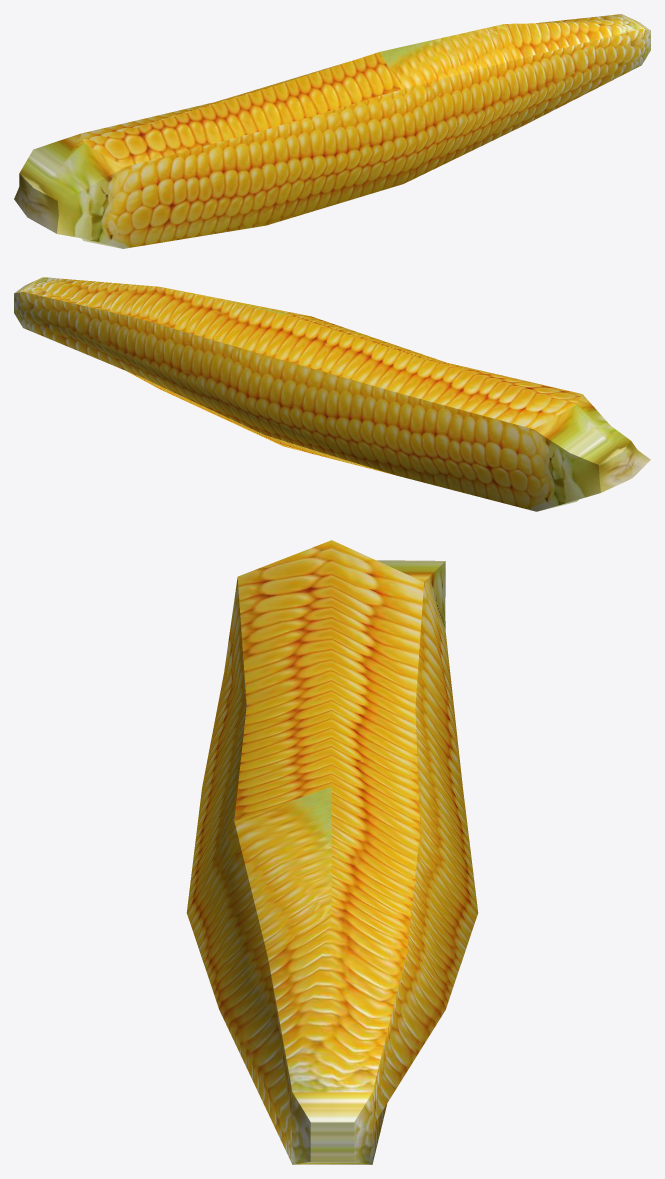
The model's file is maiskolf.fbx.
3 views of the same model, one above another, from view 1: azimuth 30°, elevation 25°; view 2: azimuth 150°, elevation 25°; view 3: azimuth 270°, elevation 25° (orthographic). The views are drawn at different scales.
Parts seen in each view (by area): view 1: pCube1; view 2: pCube1; view 3: pCube1.
Boxes of the visible parts, x1,y1,x2,y2 form: pCube1: [14, 14, 650, 248]; pCube1: [14, 277, 650, 511]; pCube1: [186, 540, 478, 1164].
Size of the model in its own units: 19.31 by 3.98 by 3.98.
